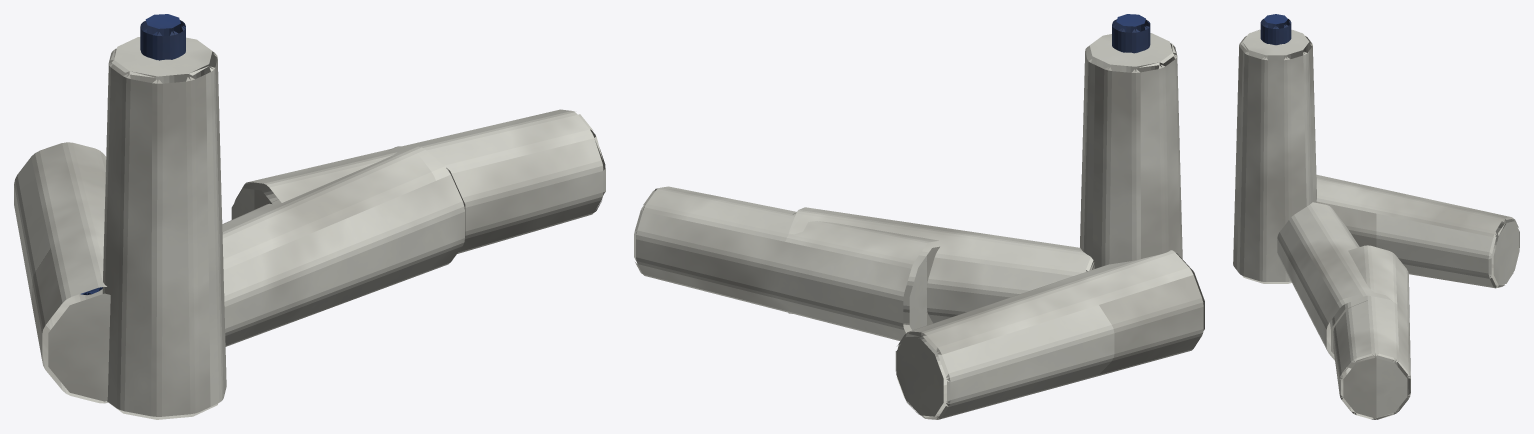
Rendered from D07_plastic_bottles_v1.glb.
3 views of the same model, side by side, from view 1: azimuth 30°, elevation 25°; view 2: azimuth 150°, elevation 25°; view 3: azimuth 270°, elevation 25° (orthographic). The views are drawn at different scales.
Visible parts, largest first — view 1: D07_plastic_bottles_v1; view 2: D07_plastic_bottles_v1; view 3: D07_plastic_bottles_v1.
Part boxes in pixels (x1,y1,x2,y2): D07_plastic_bottles_v1: (14, 14, 605, 419); D07_plastic_bottles_v1: (634, 14, 1204, 419); D07_plastic_bottles_v1: (1233, 14, 1519, 419).
Size of the model in its own units: 0.2999 by 0.1796 by 0.1876.
Materials: 2 (2 with a texture image).
